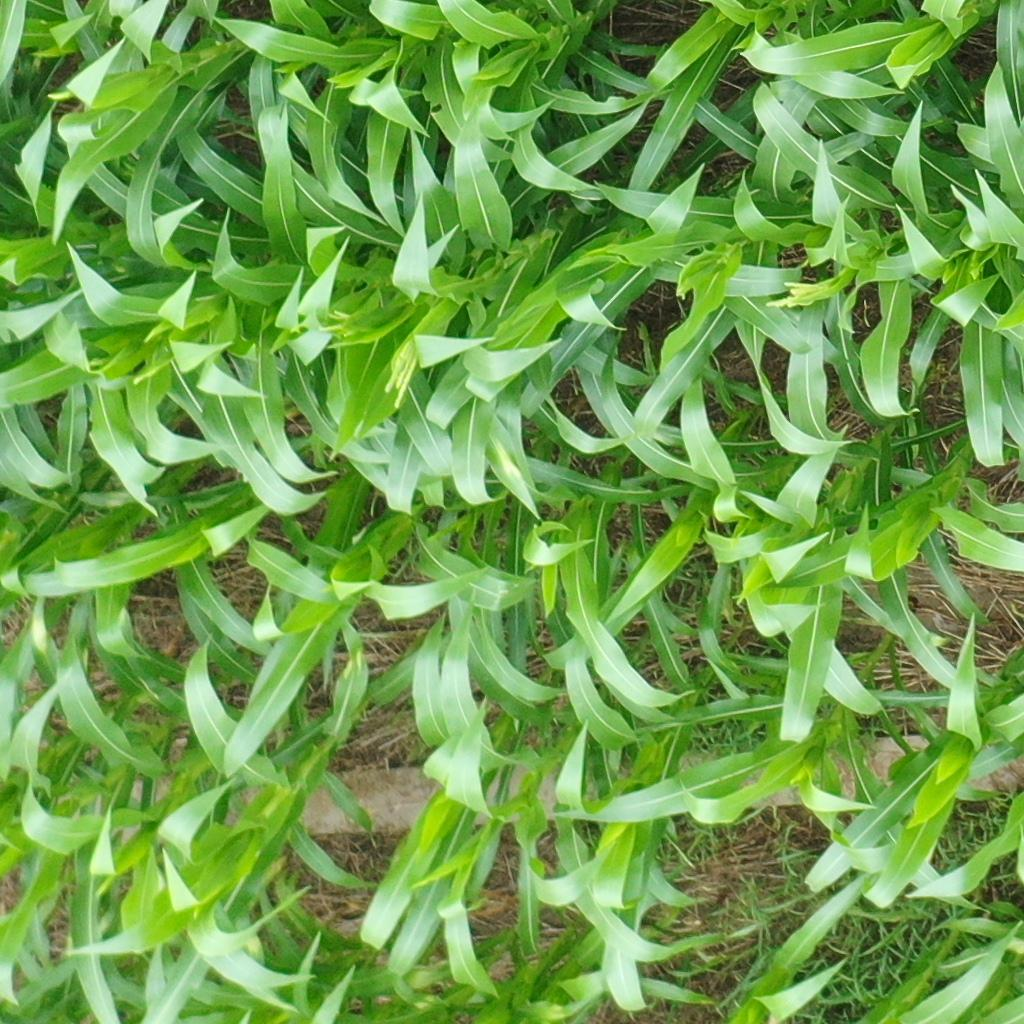Tassel: (279, 299, 361, 342), (386, 337, 429, 407), (762, 277, 846, 311)
